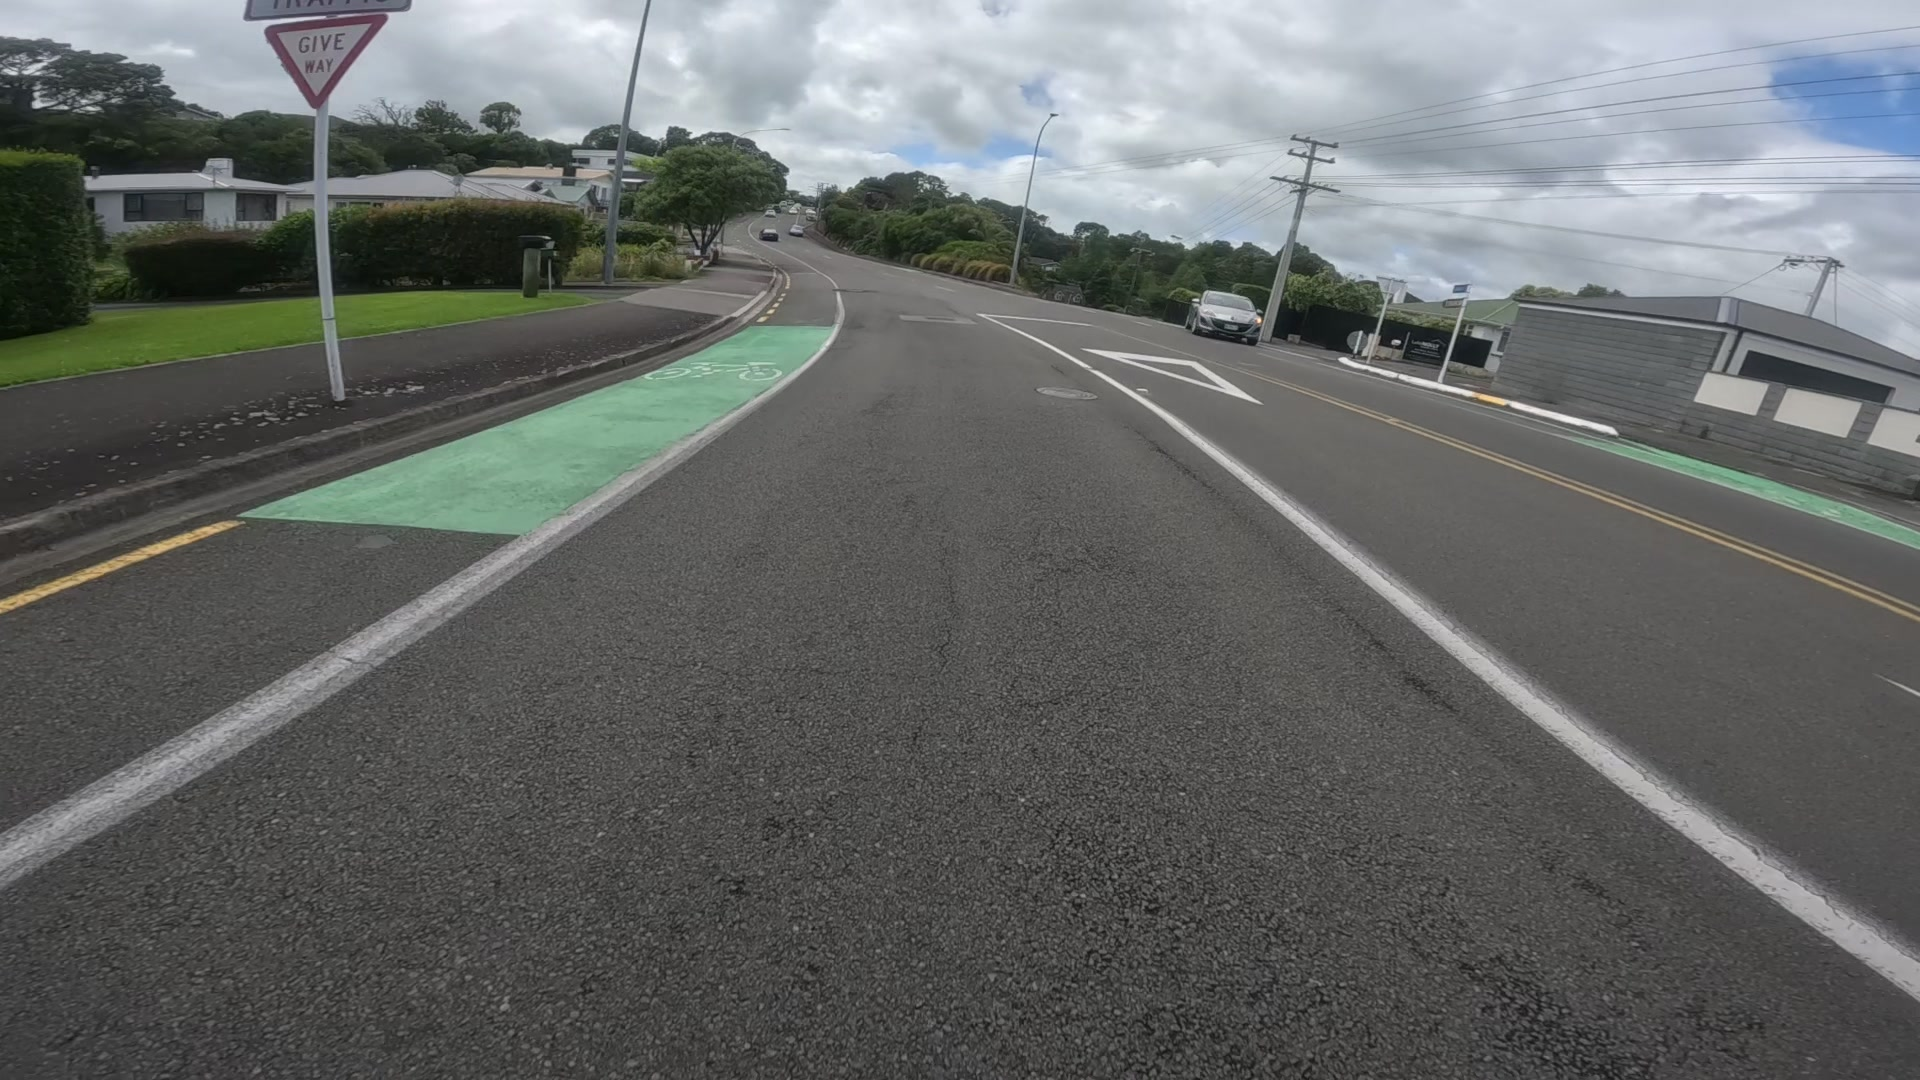Longitudinal_Cracking: (1131, 425, 1441, 705)
